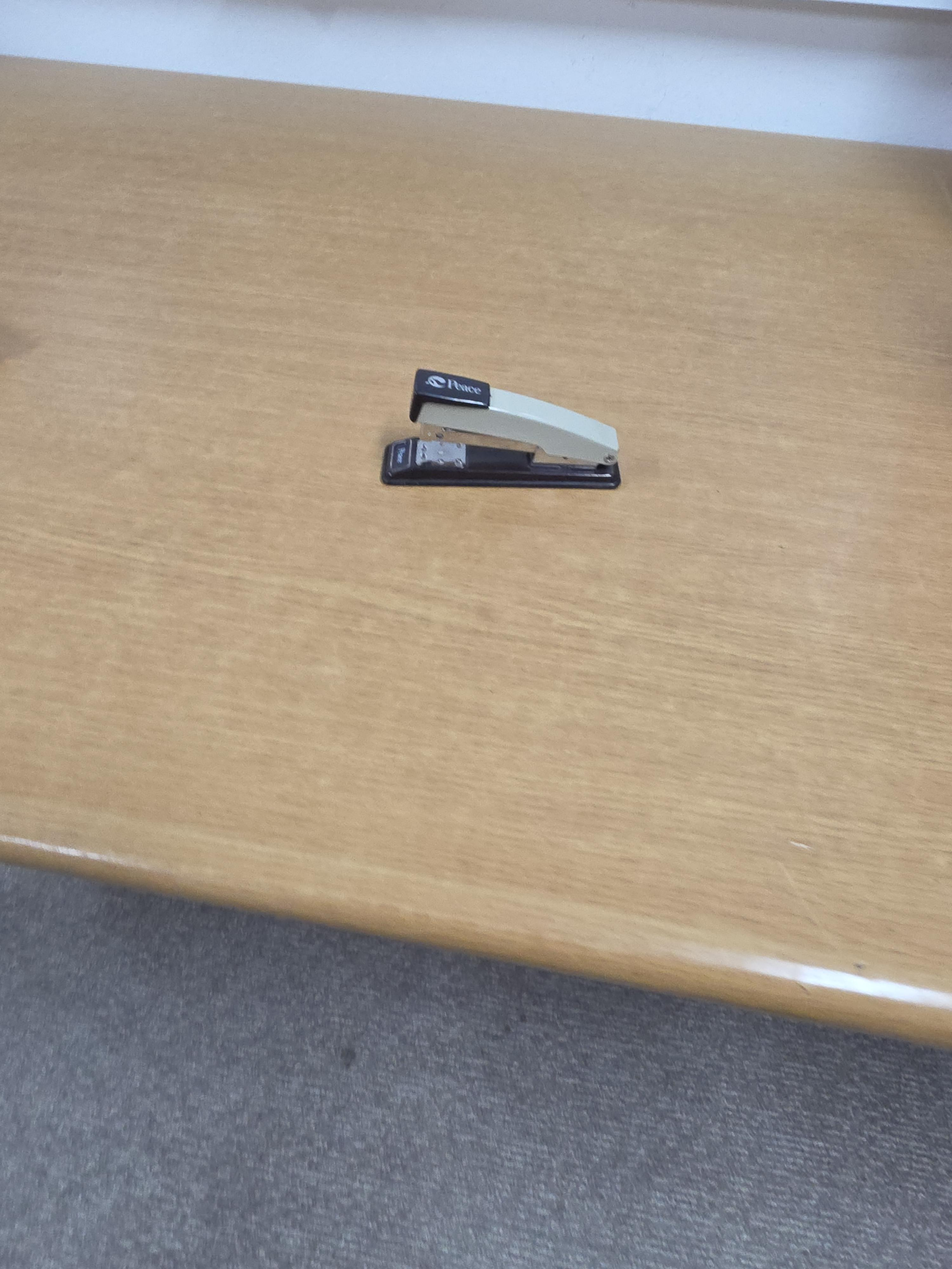stapler: (380, 369, 622, 490)
